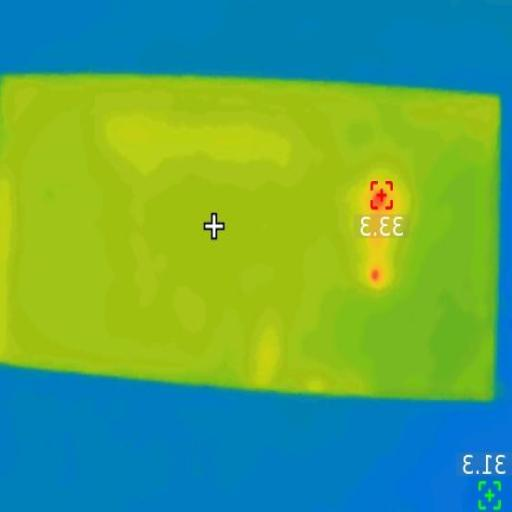hotspot: (375, 186, 389, 211), (370, 268, 381, 285)
